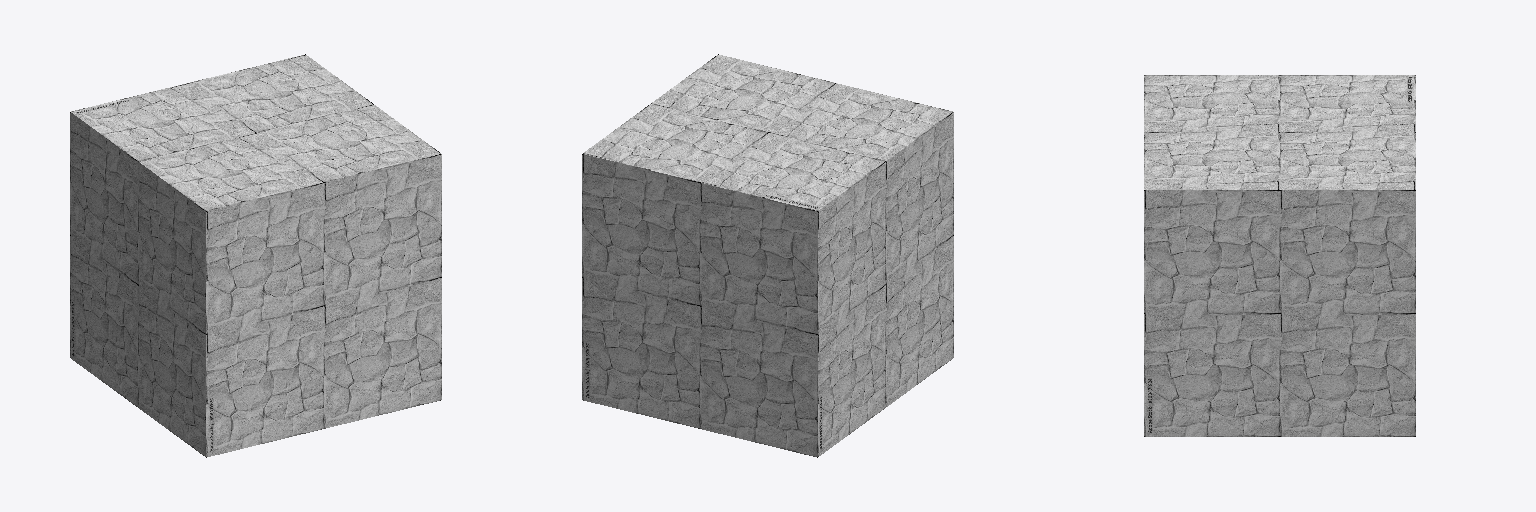
The picture shows the model from 3 angles: view 1: azimuth 30°, elevation 25°; view 2: azimuth 150°, elevation 25°; view 3: azimuth 270°, elevation 25°; orthographic projection.
Visible parts, largest first — view 1: cube; view 2: cube; view 3: cube.
Part boxes in pixels (left/top/right/bottom): cube: left=70, top=54, right=441, bottom=457; cube: left=582, top=54, right=953, bottom=457; cube: left=1144, top=75, right=1415, bottom=436.
Bounding box in the file's own units: 1 × 1 × 1.
1 materials, 1 textured.